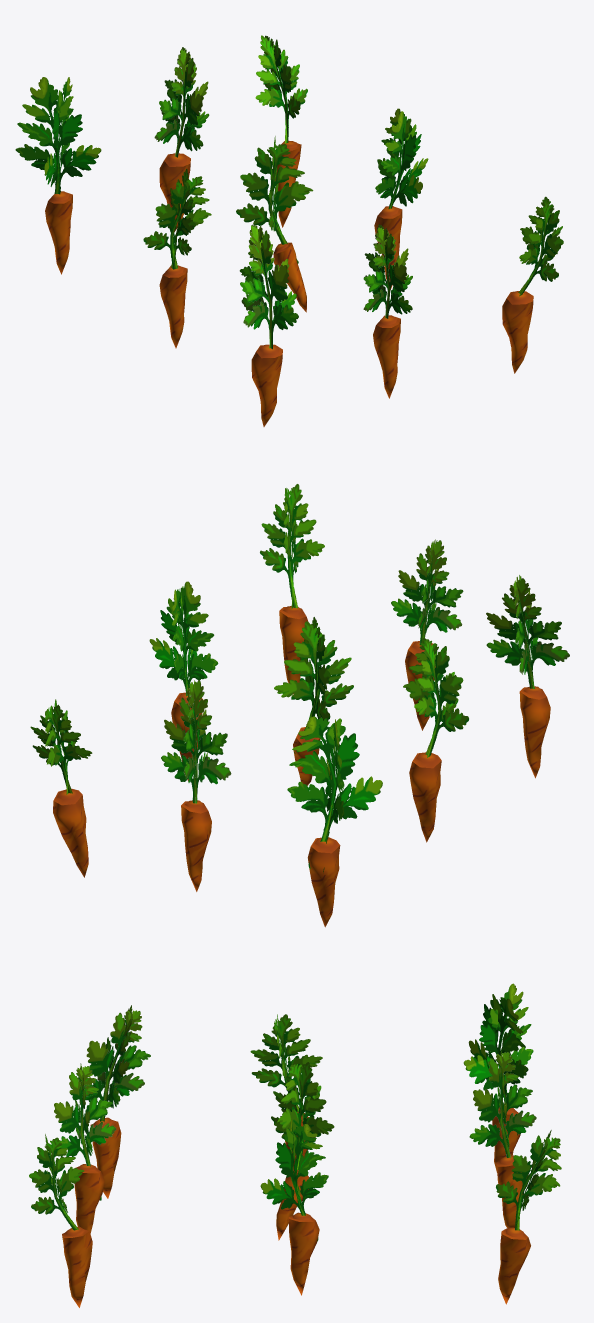
File: Carrot_Step02.fbx
3 renders of one model, top to bottom at view 1: azimuth 30°, elevation 25°; view 2: azimuth 150°, elevation 25°; view 3: azimuth 270°, elevation 25°, orthographic. The views are drawn at different scales.
Visible parts, largest first — view 1: Carrot_Step02; view 2: Carrot_Step02; view 3: Carrot_Step02.
Part boxes in pixels (x1,y1,x2,y2): Carrot_Step02: (15,35,563,426); Carrot_Step02: (30,484,569,927); Carrot_Step02: (29,983,561,1307).
Bounding box in the file's own units: 127 × 83.26 × 189.
